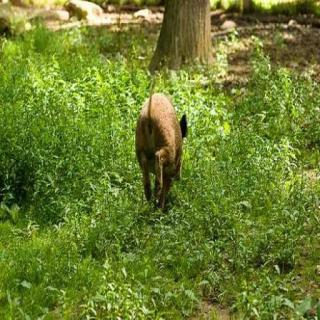Pig: (90, 59, 200, 205)
